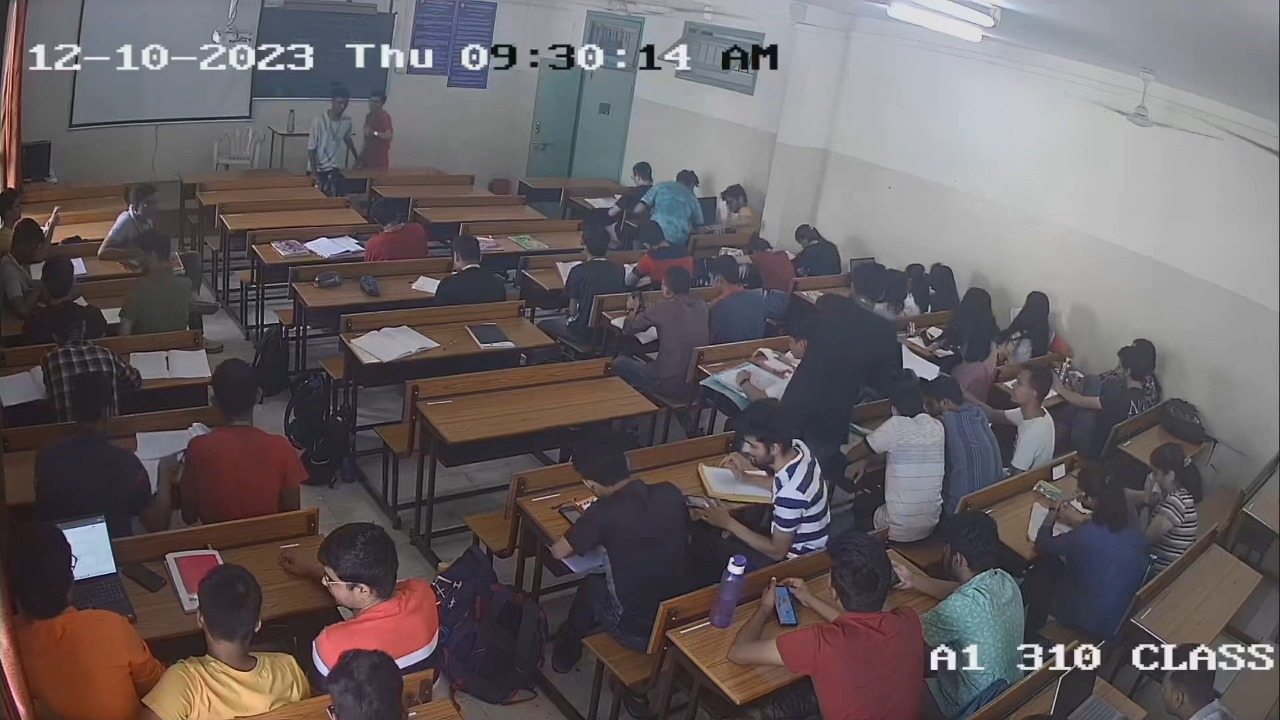cell-phones: (766, 578, 801, 634), (117, 562, 171, 594), (556, 499, 588, 532), (1050, 461, 1072, 482), (630, 285, 645, 315)
person: (723, 533, 927, 720), (149, 560, 311, 713), (547, 430, 691, 590), (1031, 466, 1146, 596), (618, 263, 709, 358)
